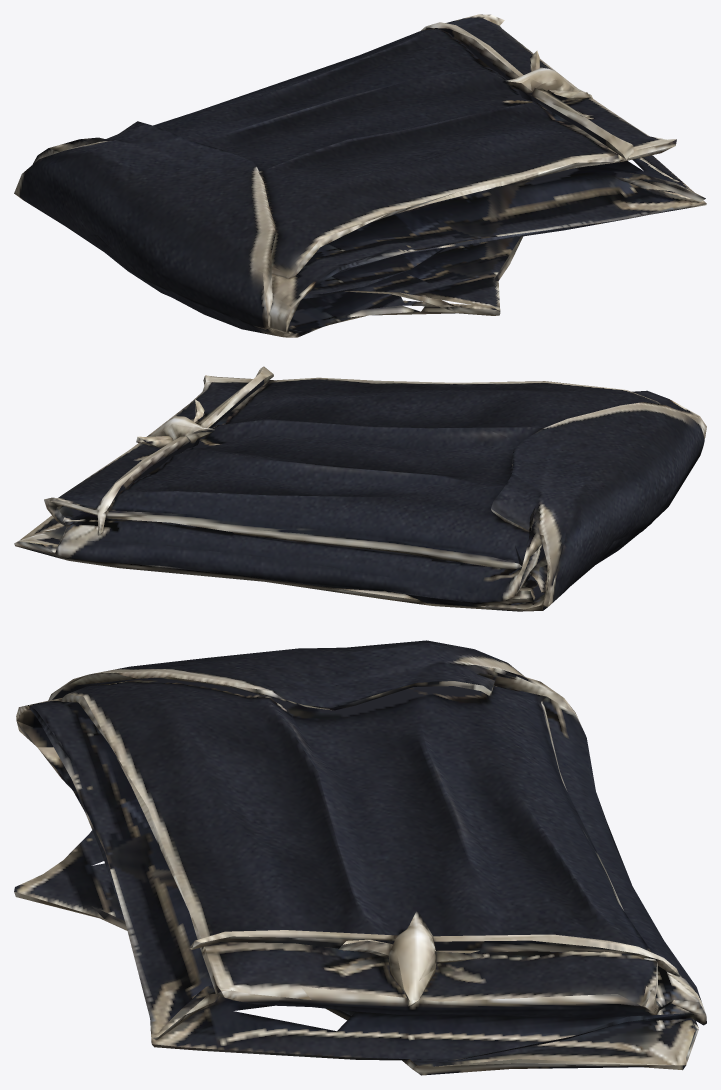
File: item_6cape7.glb
3 views of the same model, one above another, from view 1: azimuth 30°, elevation 25°; view 2: azimuth 150°, elevation 25°; view 3: azimuth 270°, elevation 25° (orthographic). The views are drawn at different scales.
Parts seen in each view (by area): view 1: equipment_6cape7; view 2: equipment_6cape7; view 3: equipment_6cape7.
Boxes of the visible parts, x1,y1,x2,y2 form: equipment_6cape7: (14,14,706,337); equipment_6cape7: (14,366,706,611); equipment_6cape7: (14,640,706,1075).
Size of the model in its own units: 1 by 0.1965 by 0.9037.
1 material, 1 textured.
